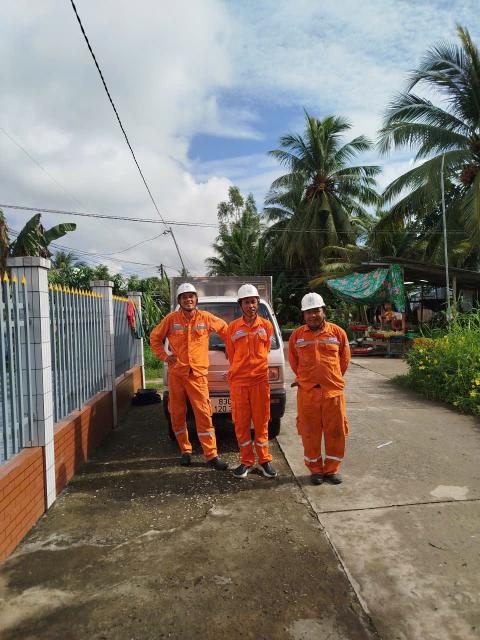helmet: (293, 289, 331, 316), (229, 282, 268, 304), (172, 279, 207, 300)
shoes: (258, 454, 283, 482), (326, 462, 352, 486), (203, 452, 234, 472), (171, 446, 198, 465), (234, 458, 256, 480), (309, 467, 327, 487)
